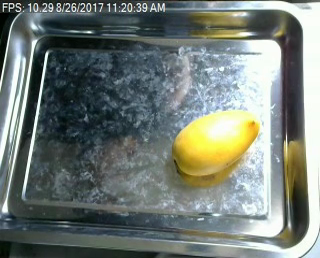Mango: (173, 109, 255, 179)
